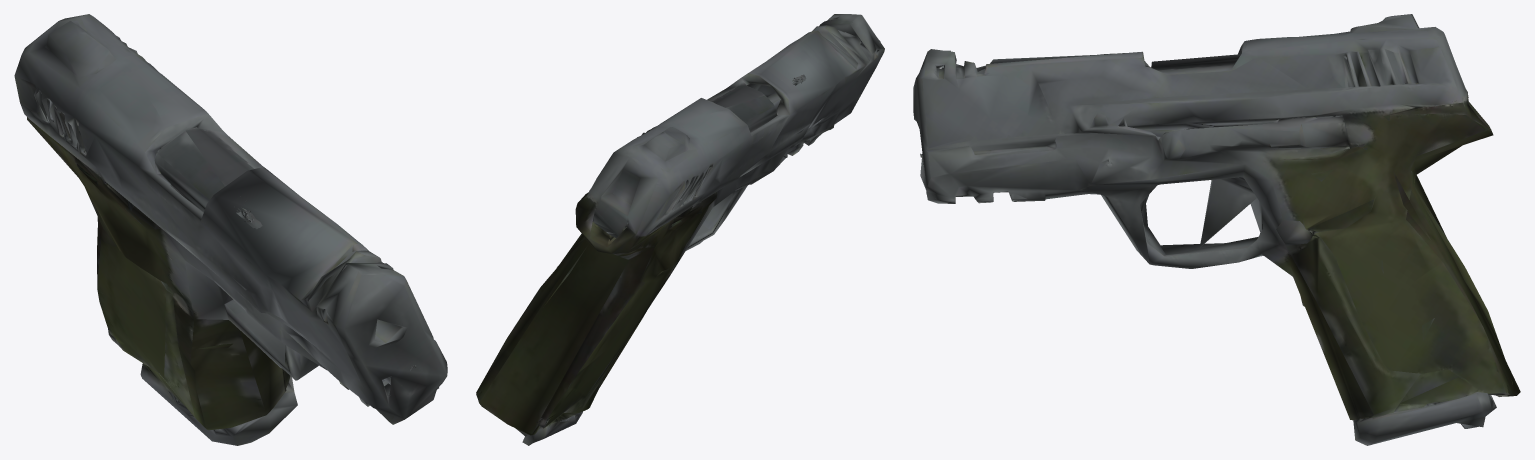
Rendered from sidearm-trellis.glb.
The picture shows the model from 3 angles, left to right: view 1: azimuth 30°, elevation 25°; view 2: azimuth 150°, elevation 25°; view 3: azimuth 270°, elevation 25°; orthographic projection. The views are drawn at different scales.
Size of the model in its own units: 0.3867 by 0.666 by 0.9966.
Materials: 1 (1 with a texture image).
